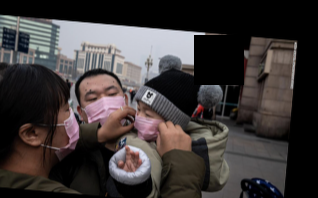with_mask: (41, 101, 81, 161), (79, 83, 127, 131), (134, 102, 165, 141)
